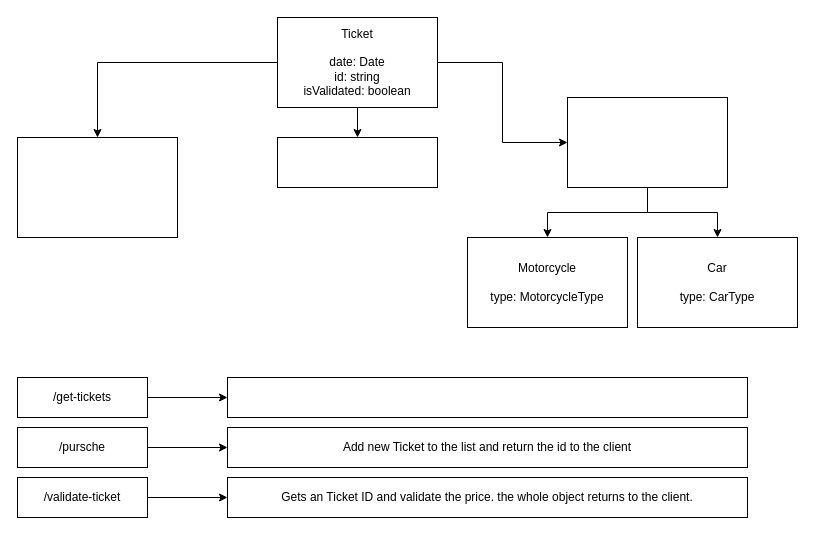
Image size: 815x535. Some labels were removed from this diagram. The shapes that lost their labels are listed below. From the top down, each one's centre as x and y in pixels, then its label:
At point 357,162: "Lost".
At point 647,142: "Vehicle year: number plateNumber: number color: Enum".
At point 97,187: "Cash amount: number".
At point 487,397: "Returns a map between id to Ticket/Only ID&Date (if not validated)".
